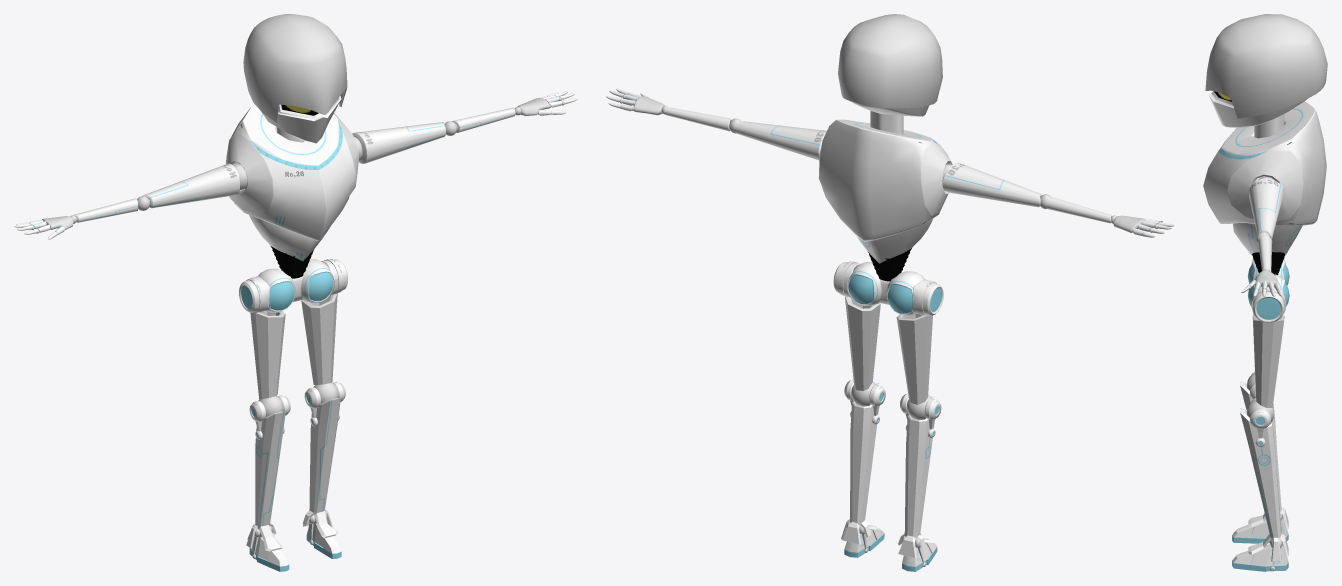
The model's file is robot.fbx.
3 renders of one model, left to right at view 1: azimuth 30°, elevation 25°; view 2: azimuth 150°, elevation 25°; view 3: azimuth 270°, elevation 25°, orthographic.
Parts seen in each view (by area): view 1: BodyA, polySurface6, pCube6.001, pCube6, kosi1, pCube5.001, pCube5, pCube8, pCube8.001, polySurface32, BodyB, polySurface9 (+3 smaller); view 2: BodyA, polySurface6, pCube6, pCube6.001, pCube5, kosi1, pCube5.001, pCube8, pCube8.001, BodyB, polySurface9, pCube9 (+1 smaller); view 3: BodyA, polySurface6, pCube6.001, pCube5.001, pCube8.001, BodyB, polySurface32, pCube7.001, polySurface9.001, pCube7, pCube6, kosi1 (+5 smaller).
Part boxes in pixels (left/top/right/bottom): BodyA: left=226, top=104, right=359, bottom=240; polySurface6: left=243, top=14, right=347, bottom=122; pCube6.001: left=302, top=398, right=340, bottom=538; pCube6: left=246, top=411, right=285, bottom=551; kosi1: left=258, top=259, right=334, bottom=312; pCube5.001: left=301, top=293, right=337, bottom=384; pCube5: left=250, top=311, right=285, bottom=399; pCube8: left=142, top=163, right=239, bottom=208; pCube8.001: left=352, top=122, right=446, bottom=163; polySurface32: left=261, top=96, right=341, bottom=143; BodyB: left=244, top=189, right=329, bottom=261; polySurface9: left=239, top=276, right=269, bottom=312; BodyA: left=818, top=111, right=952, bottom=241; polySurface6: left=838, top=14, right=942, bottom=108; pCube6: left=898, top=395, right=935, bottom=559; pCube6.001: left=841, top=382, right=880, bottom=544; pCube5: left=896, top=313, right=932, bottom=404; kosi1: left=847, top=262, right=924, bottom=315; pCube5.001: left=845, top=296, right=880, bottom=390; pCube8: left=942, top=162, right=1041, bottom=207; pCube8.001: left=733, top=121, right=826, bottom=160; BodyB: left=857, top=219, right=932, bottom=263; polySurface9: left=912, top=279, right=943, bottom=315; pCube9: left=1045, top=197, right=1111, bottom=223; BodyA: left=1203, top=101, right=1326, bottom=226; polySurface6: left=1205, top=14, right=1327, bottom=118; pCube6.001: left=1240, top=408, right=1288, bottom=561; pCube5.001: left=1252, top=315, right=1284, bottom=407; pCube8.001: left=1249, top=178, right=1284, bottom=239; BodyB: left=1233, top=223, right=1302, bottom=255; polySurface32: left=1208, top=91, right=1306, bottom=127; pCube7.001: left=1232, top=544, right=1288, bottom=571; polySurface9.001: left=1252, top=287, right=1284, bottom=322; pCube7: left=1232, top=517, right=1288, bottom=543; pCube6: left=1240, top=381, right=1288, bottom=529; kosi1: left=1247, top=259, right=1289, bottom=306.
Size of the model in its own units: 684 by 622 by 132.
